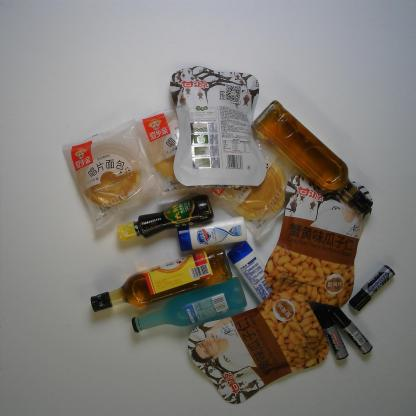Alcohol: (130, 277, 248, 332)
Dessert: (60, 118, 166, 230), (136, 102, 239, 198), (205, 144, 303, 239)
Dried Fruit: (186, 288, 329, 406), (262, 172, 373, 310), (170, 63, 264, 189)
Personal Hygiene: (226, 240, 284, 306), (179, 216, 246, 251)
Seasoner: (250, 100, 373, 212), (87, 245, 234, 313), (115, 192, 214, 242)
Stationery: (349, 264, 396, 312), (332, 306, 375, 355), (318, 307, 350, 361)
